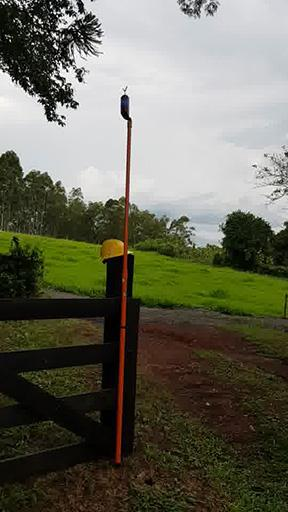Detector_Tensao_Contato: (118, 86, 131, 121)
Vara_Manobra: (113, 120, 135, 465)
